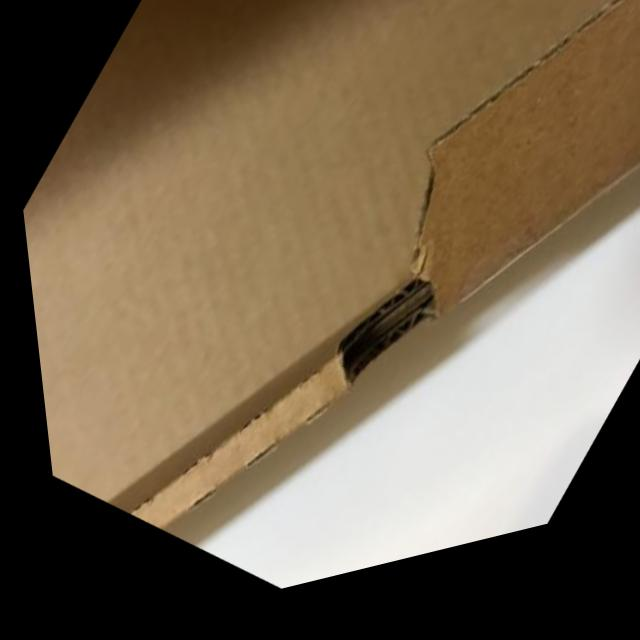materials: (153, 196, 640, 553)
